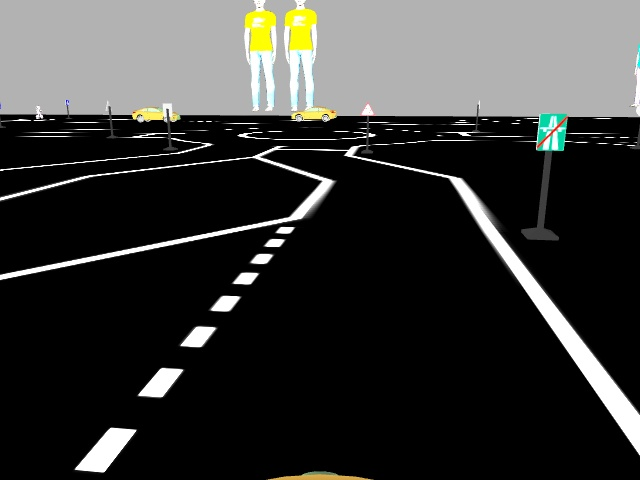HighwayExit: (533, 113, 569, 151)
